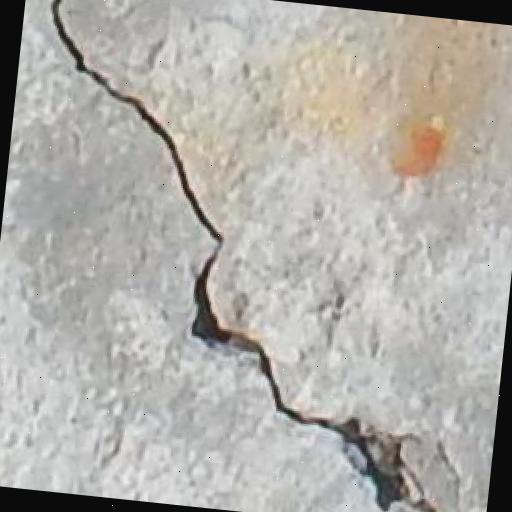spalling: (35, 0, 443, 512)
